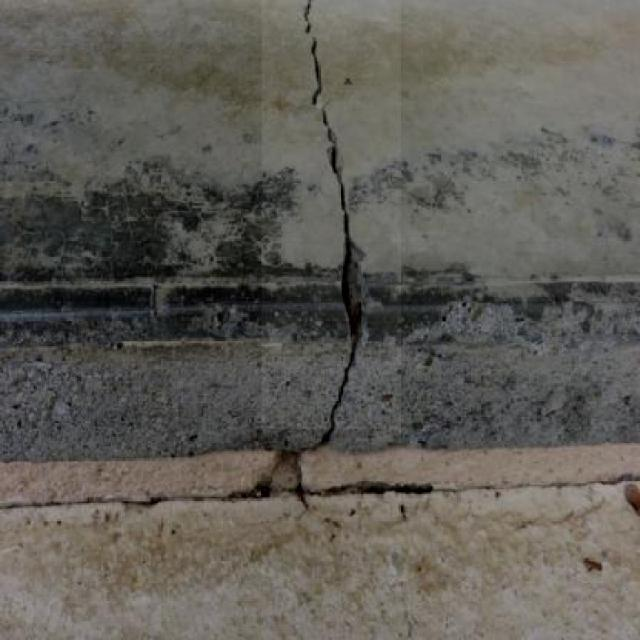Crack: (264, 8, 392, 413), (2, 469, 640, 534)
